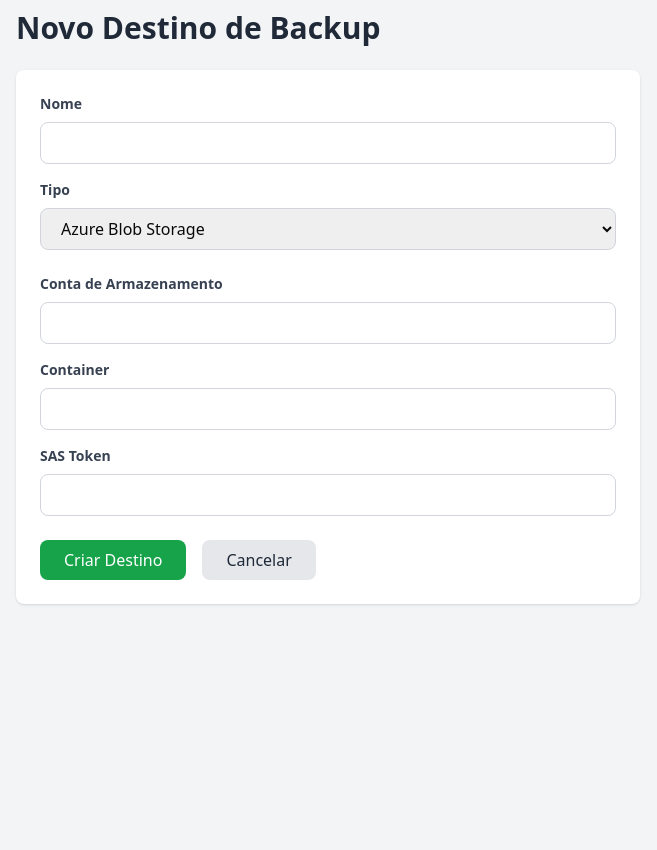
Test: StorageTargetNewView › should render s3 fields when type is switched to s3
Select "S3-compatível (AWS, MinIO, Backblaze, Wasabi, R2...)" in the dropdown with test id "type-select" at (328, 229), box 40,208 -> 616,250
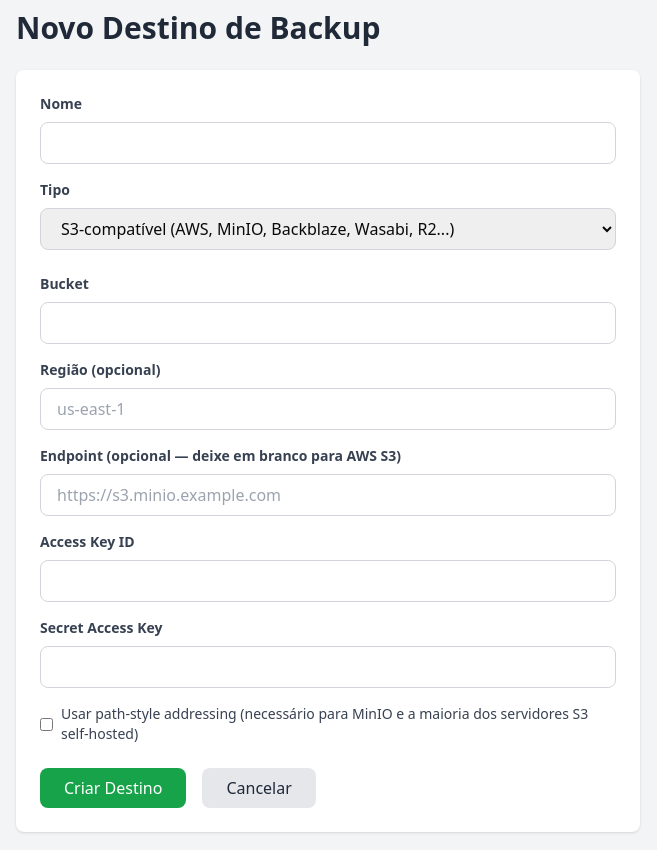
Expected: the field with test id "bucket-input" is shown, 40,302 -> 616,344
Result: the field with test id "access-key-id-input" is shown at 40,560 -> 616,602
Result: the password field with test id "secret-access-key-input" is shown at 40,646 -> 616,688
